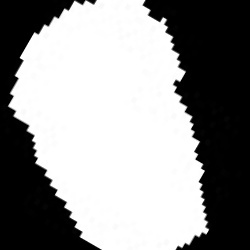spot: (8, 2, 207, 247)
